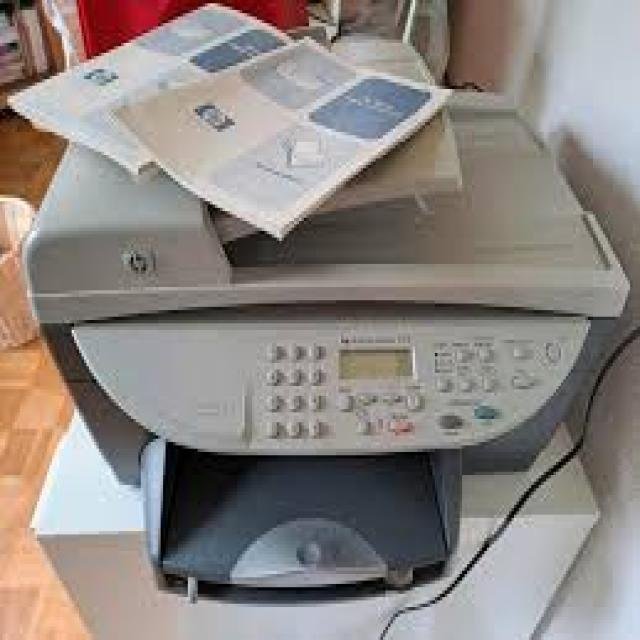printer: (17, 7, 633, 600)
